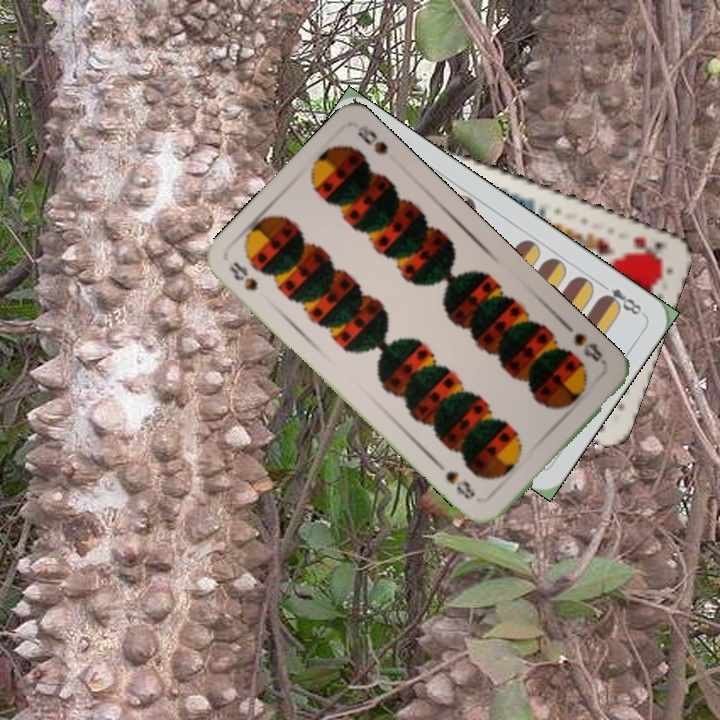E8: (595, 278, 644, 318)
HK: (628, 232, 667, 261)
S8: (570, 329, 610, 371), (224, 257, 261, 294)
